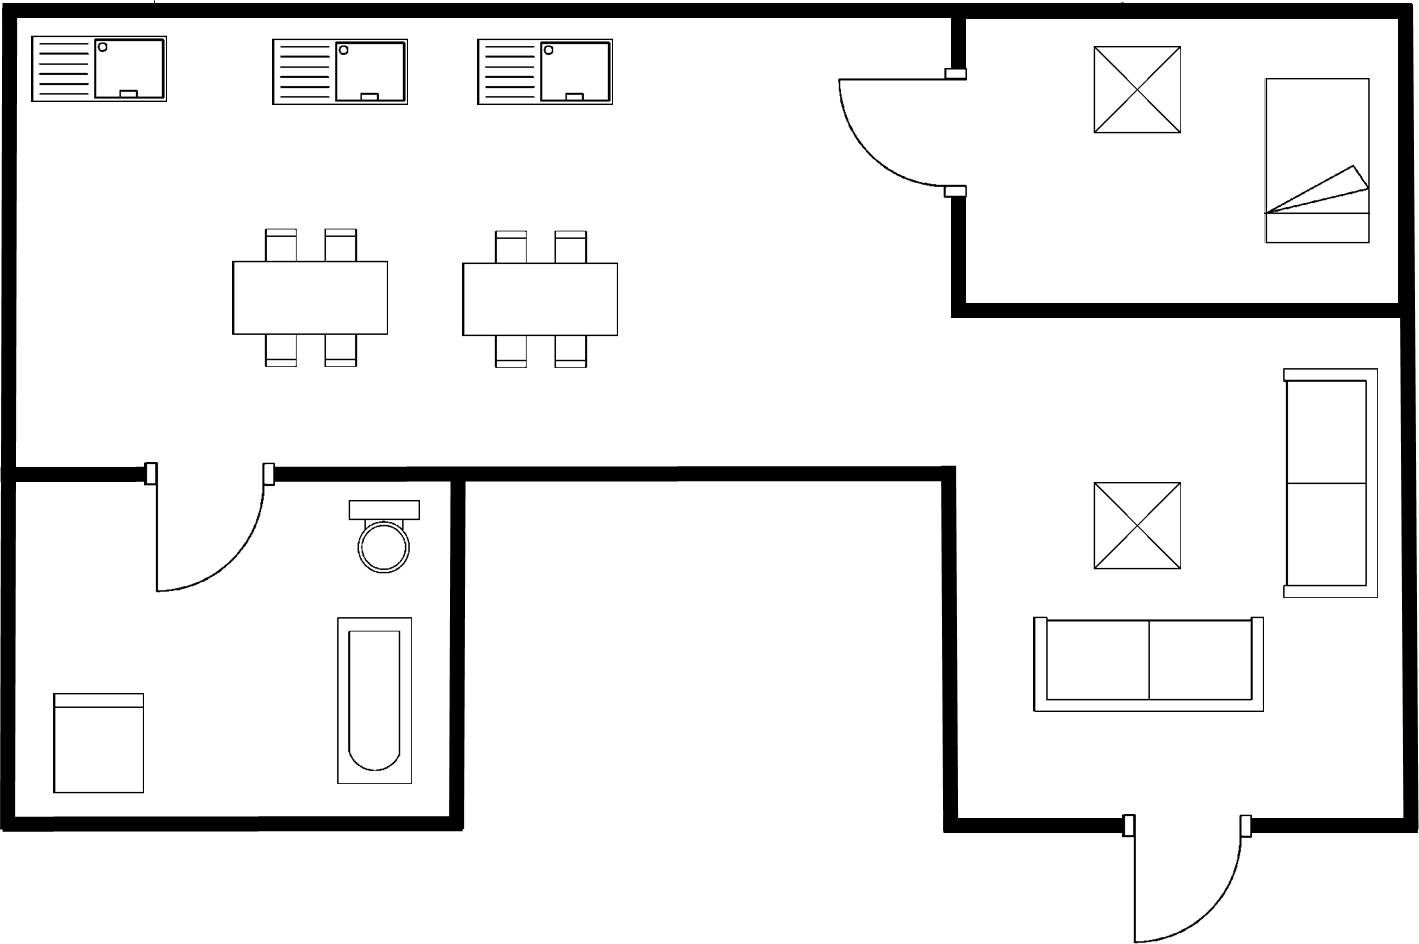bed: (1258, 73, 1375, 250)
coffee_table: (1087, 40, 1188, 141), (1087, 478, 1186, 575)
dining_table: (228, 223, 396, 374), (456, 223, 624, 374)
large_sink: (341, 496, 427, 577)
large_sofa: (1025, 612, 1269, 720), (1278, 363, 1384, 603)
sink: (24, 29, 175, 114), (265, 32, 415, 111), (470, 34, 620, 111)
small_sofa: (46, 687, 152, 801)
tub: (332, 611, 420, 790)
